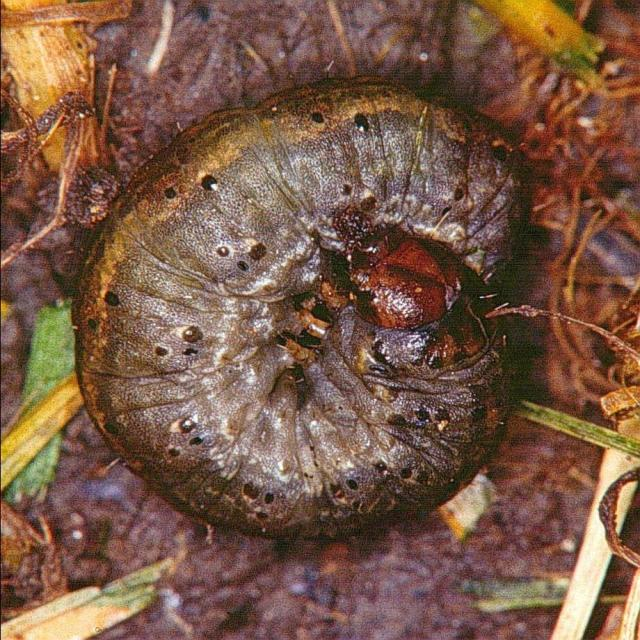black cutworm: (73, 83, 519, 548)
